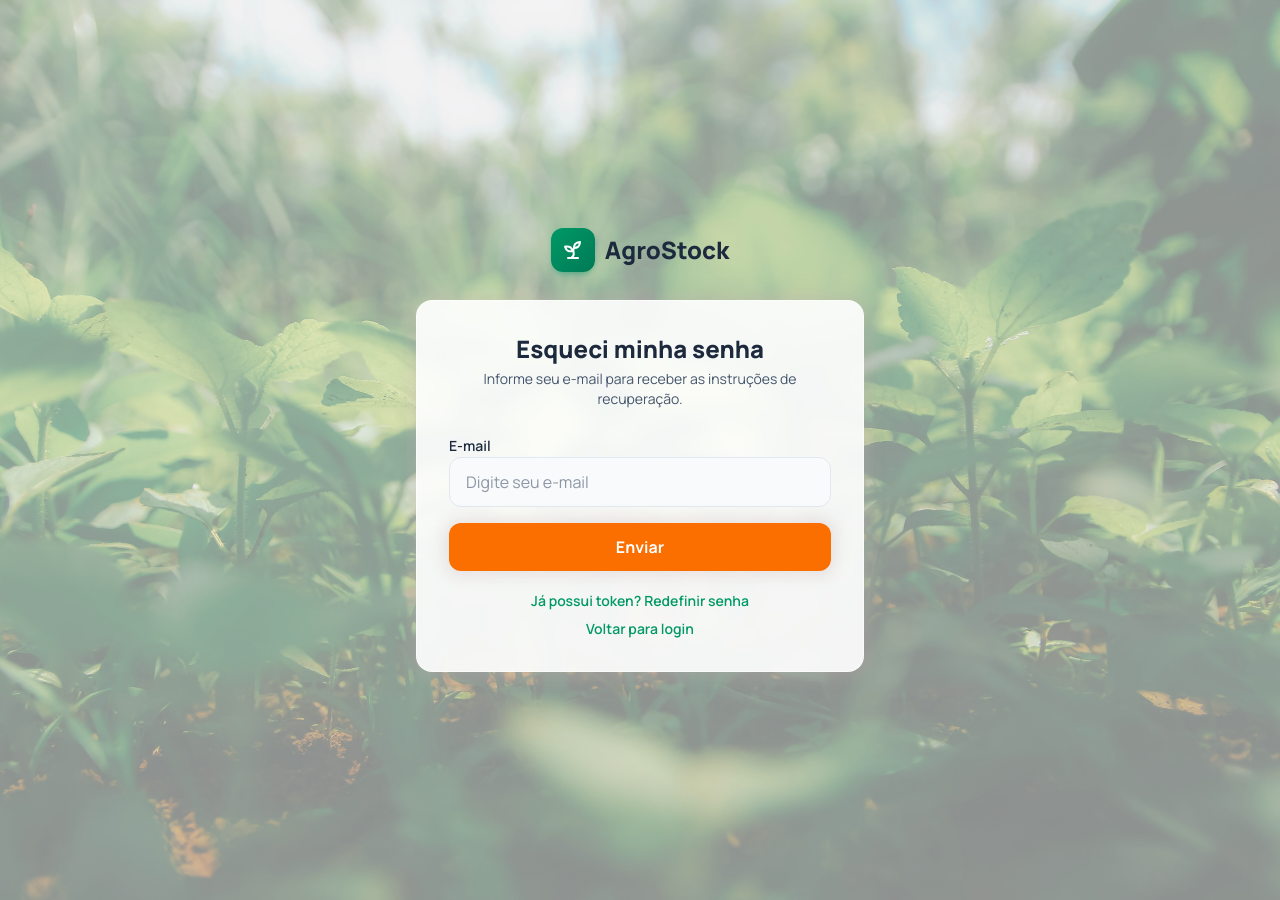
Scenario: Recuperação de senha › F18 'Esqueci a senha' valida o e-mail e exibe o token de desenvolvimento
This screenshot has width=1280, height=900.
Type "invalido" into the field at (640, 482), box [449,457,831,507]
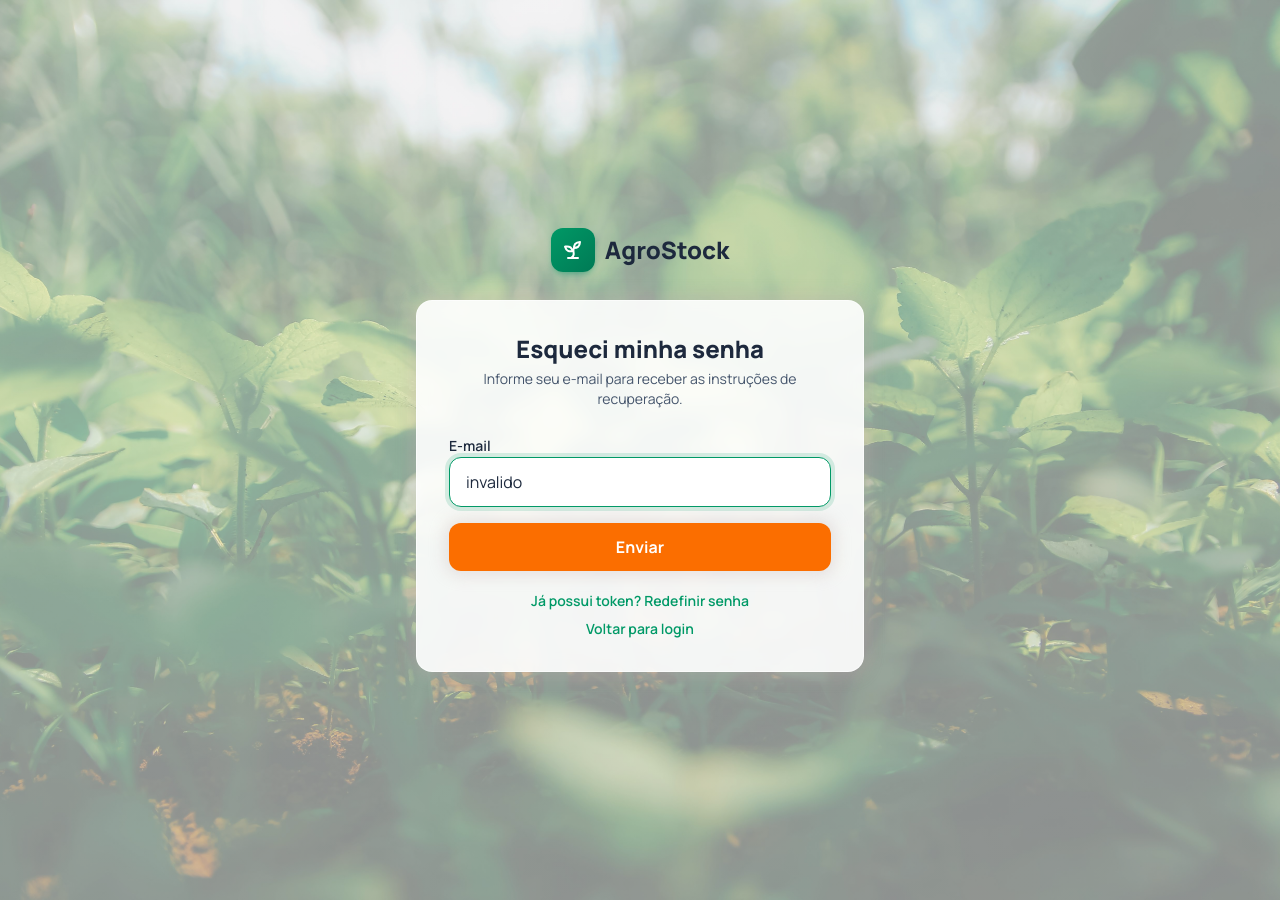
Click the button at (640, 547), box [449,523,831,571]
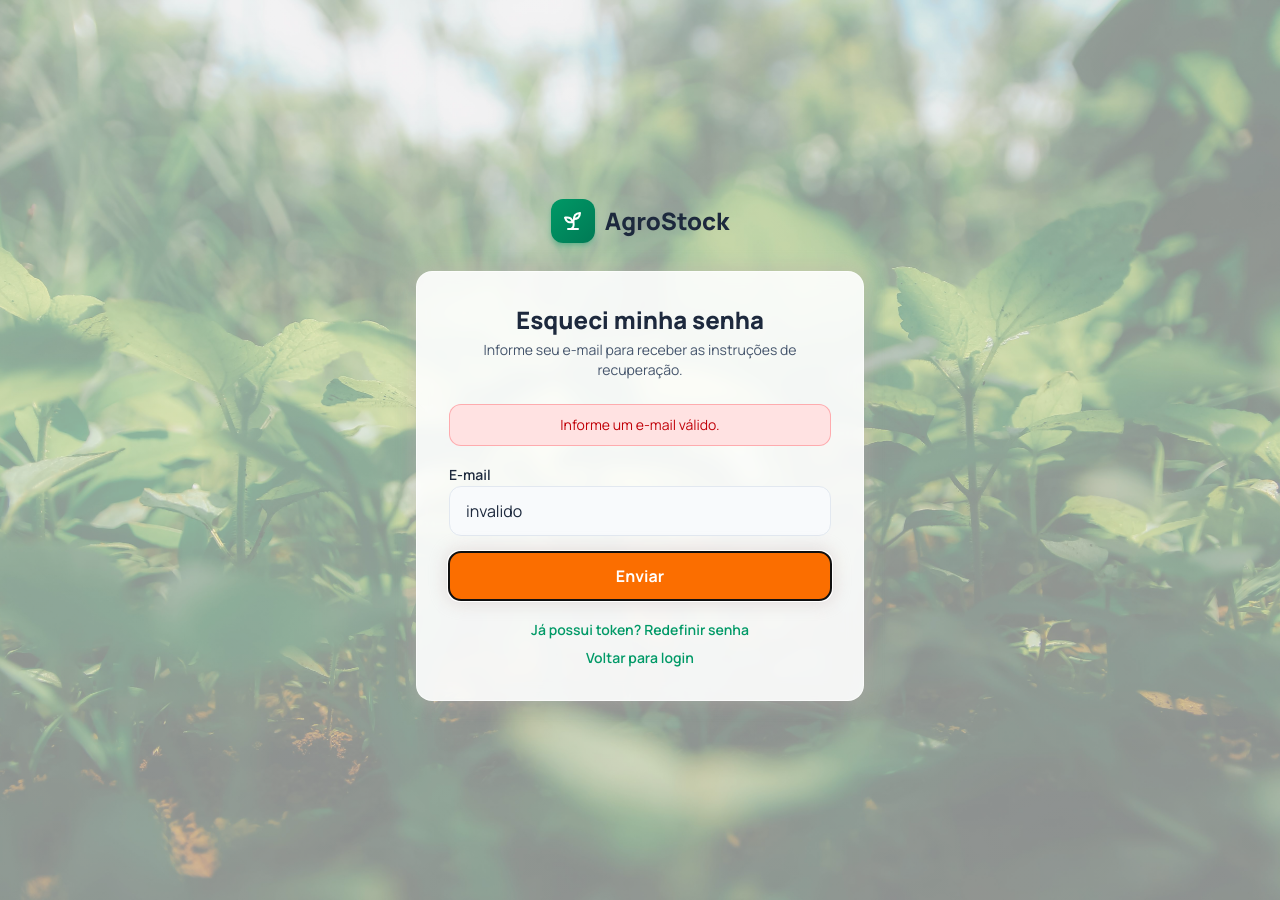
expect the text "Informe um e-mail válido." is shown: met, box [449,404,831,446]
Replace the text in the field labelled "E-mail" with "maria@fazenda.com" at (640, 511), box [449,486,831,536]
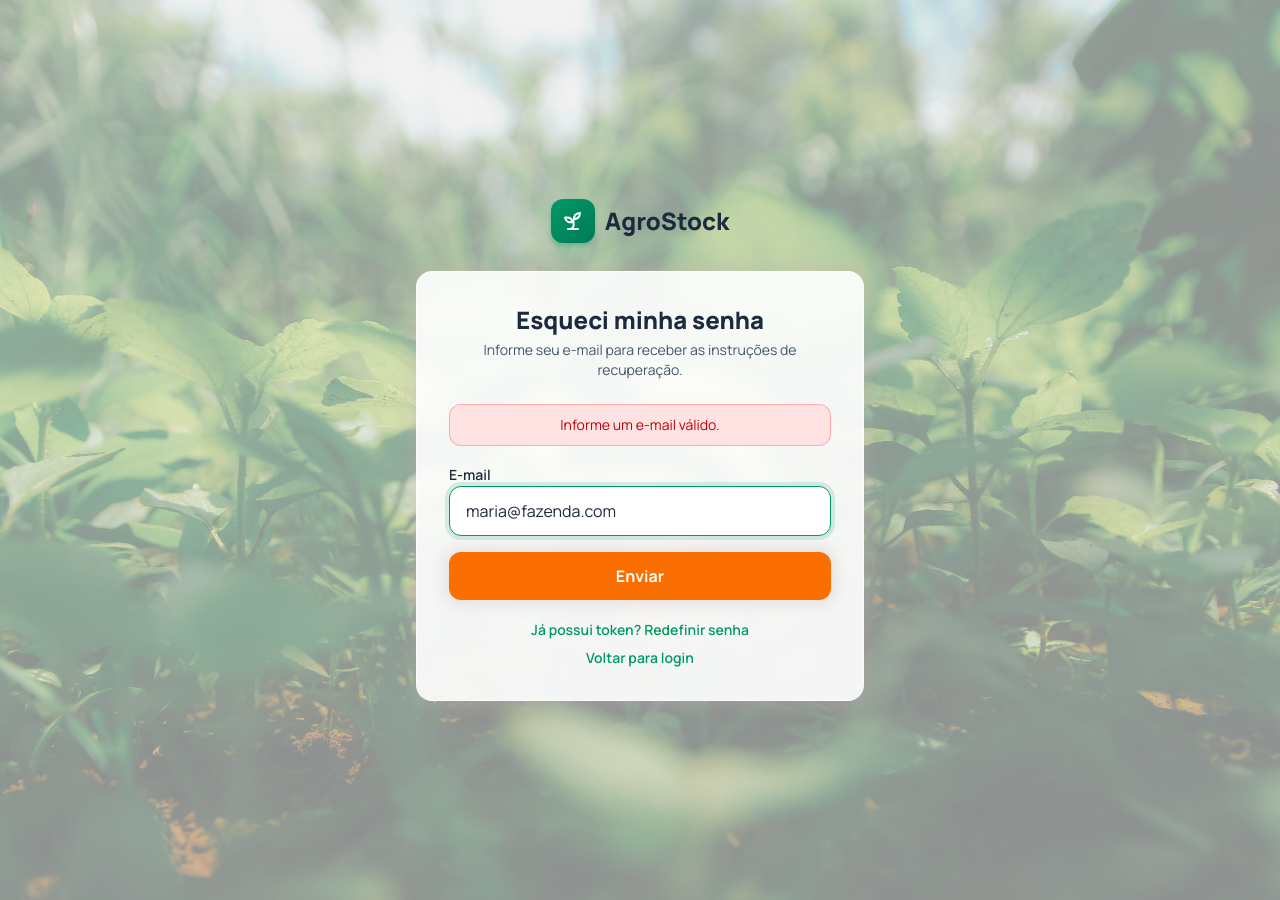
Click the button at (640, 576), box [449,552,831,600]
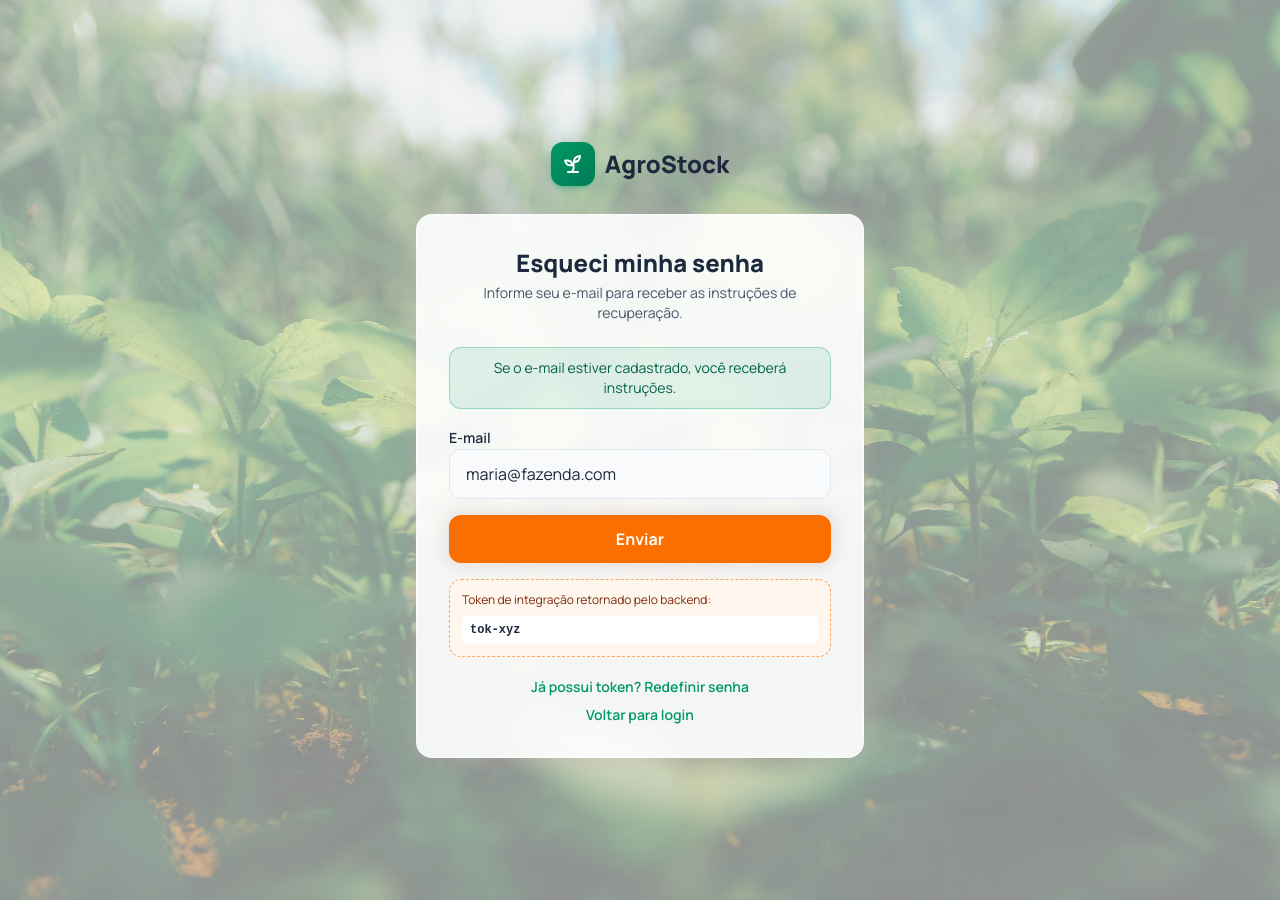
expect the text "Se o e-mail estiver cadastrado, você receberá instruções." is shown: met, box [449,347,831,409]
expect the text "tok-xyz" is shown: met, box [462,616,818,644]
